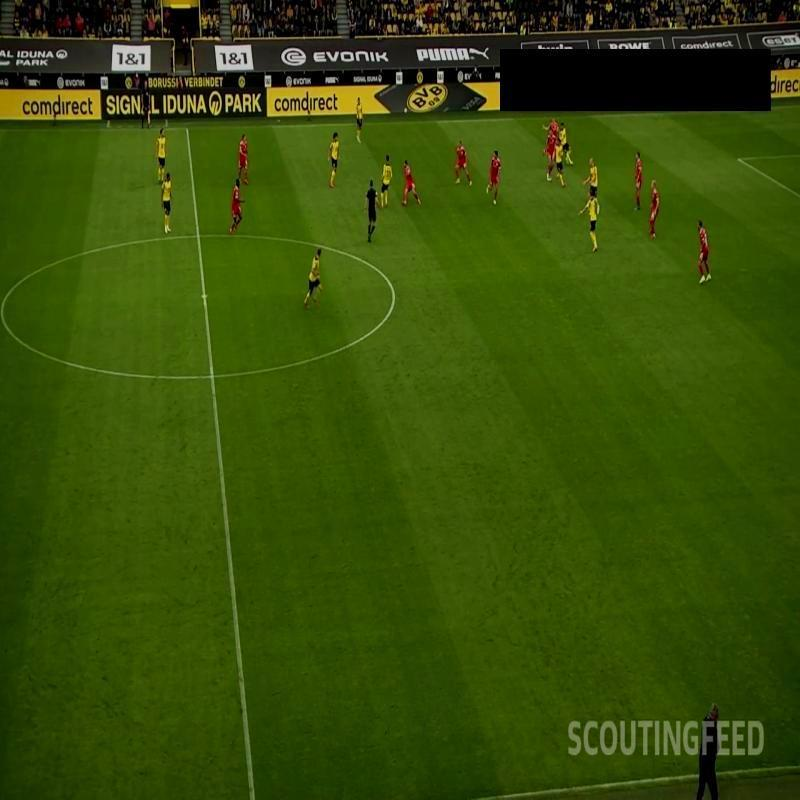13: (180, 121, 194, 135)
14: (190, 228, 206, 245)
15: (204, 368, 222, 384)
9: (731, 152, 745, 166)
c: (386, 278, 400, 302), (0, 292, 5, 329)
